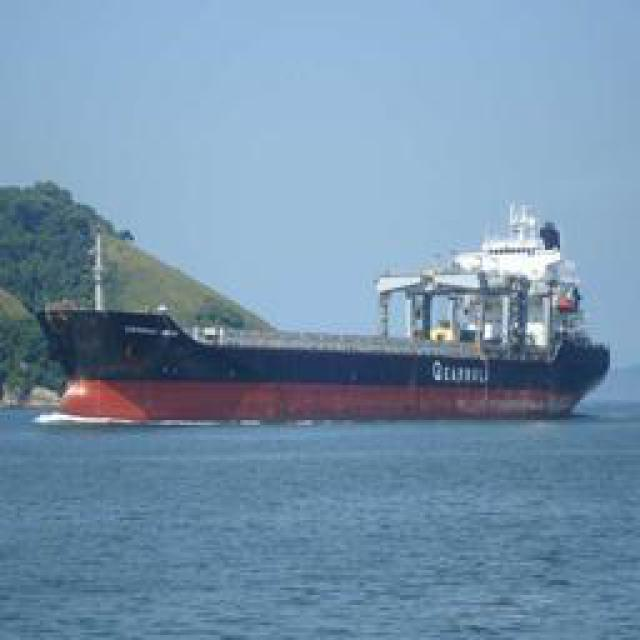Ship: (41, 207, 611, 427)
